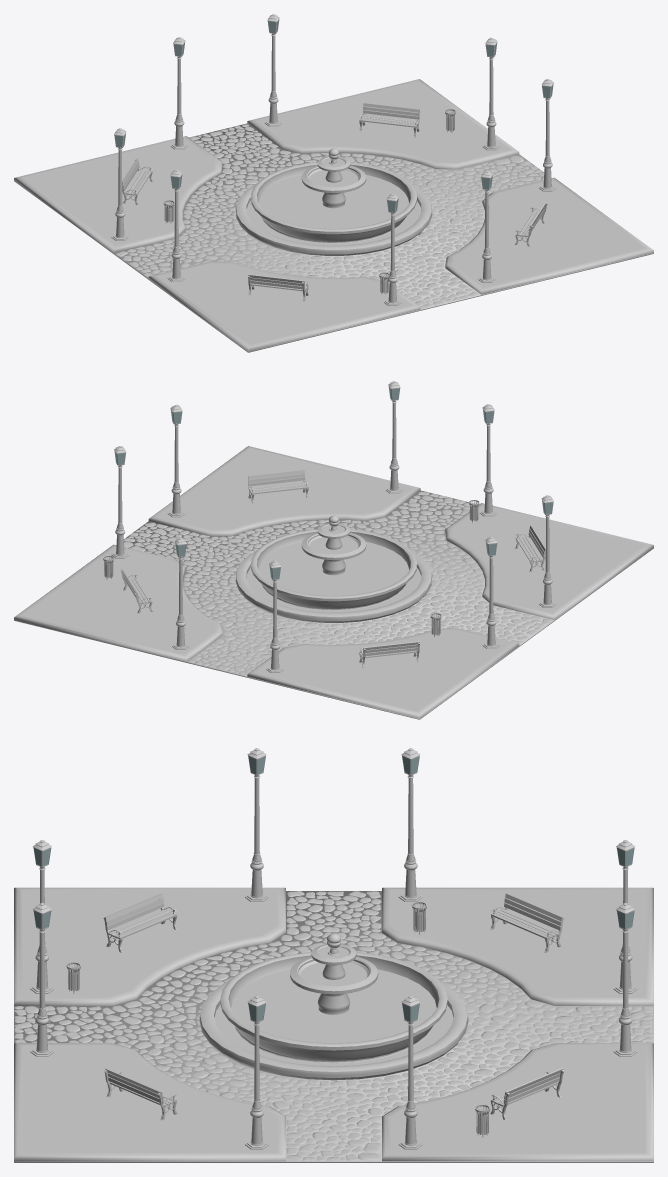
Rendered from assembly_v2.fbx.
The picture shows the model from 3 angles, top to bottom: view 1: azimuth 30°, elevation 25°; view 2: azimuth 150°, elevation 25°; view 3: azimuth 270°, elevation 25°; orthographic projection. The views are drawn at different scales.
Parts seen in each view (by area): view 1: Ground|Ledges_L_ground_modeling_lowPoly.blend|Dupli|, Cobblestone|Cobblestones_L_ground_modeling_lowPoly.blend|Dup, Fountain|Fountain_L_fontaine_shading.blend|Dupli|, Ground|Ground_L_ground_modeling_lowPoly.blend|Dupli|1, Bench.001|bench_L_bench_shading.blend|Dupli|, Bench.002|bench_L_bench_shading.blend|Dupli|, Bench|bench_L_bench_shading.blend|Dupli|, StreetLamp.001|Armature_L_StreetLamp_v2.blend|Dupli|, StreetLamp|Armature_L_StreetLamp_v2.blend|Dupli|, StreetLamp.004|Armature_L_StreetLamp_v2.blend|Dupli|, StreetLamp.005|Armature_L_StreetLamp_v2.blend|Dupli|, StreetLamp.002|Armature_L_StreetLamp_v2.blend|Dupli| (+4 smaller); view 2: Ground|Ledges_L_ground_modeling_lowPoly.blend|Dupli|, Cobblestone|Cobblestones_L_ground_modeling_lowPoly.blend|Dup, Fountain|Fountain_L_fontaine_shading.blend|Dupli|, Ground|Ground_L_ground_modeling_lowPoly.blend|Dupli|1, Bench.003|bench_L_bench_shading.blend|Dupli|, Bench|bench_L_bench_shading.blend|Dupli|, Bench.002|bench_L_bench_shading.blend|Dupli|, StreetLamp.003|Armature_L_StreetLamp_v2.blend|Dupli|, StreetLamp.002|Armature_L_StreetLamp_v2.blend|Dupli|, StreetLamp.007|Armature_L_StreetLamp_v2.blend|Dupli|, StreetLamp.006|Armature_L_StreetLamp_v2.blend|Dupli|, StreetLamp.001|Armature_L_StreetLamp_v2.blend|Dupli| (+4 smaller); view 3: Ground|Ledges_L_ground_modeling_lowPoly.blend|Dupli|, Cobblestone|Cobblestones_L_ground_modeling_lowPoly.blend|Dup, Fountain|Fountain_L_fontaine_shading.blend|Dupli|, Ground|Ground_L_ground_modeling_lowPoly.blend|Dupli|1, Bench.002|bench_L_bench_shading.blend|Dupli|, Bench|bench_L_bench_shading.blend|Dupli|, StreetLamp.003|Armature_L_StreetLamp_v2.blend|Dupli|, StreetLamp.001|Armature_L_StreetLamp_v2.blend|Dupli|, StreetLamp|Armature_L_StreetLamp_v2.blend|Dupli|, StreetLamp.002|Armature_L_StreetLamp_v2.blend|Dupli|, StreetLamp.004|Armature_L_StreetLamp_v2.blend|Dupli|, StreetLamp.007|Armature_L_StreetLamp_v2.blend|Dupli| (+4 smaller).
Part boxes in pixels (<box>): Ground|Ledges_L_ground_modeling_lowPoly.blend|Dupli|: <box>14,79,653,351</box>; Cobblestone|Cobblestones_L_ground_modeling_lowPoly.blend|Dup: <box>116,124,544,308</box>; Fountain|Fountain_L_fontaine_shading.blend|Dupli|: <box>235,148,432,255</box>; Ground|Ground_L_ground_modeling_lowPoly.blend|Dupli|1: <box>14,123,653,352</box>; Bench.001|bench_L_bench_shading.blend|Dupli|: <box>359,103,419,137</box>; Bench.002|bench_L_bench_shading.blend|Dupli|: <box>248,274,308,301</box>; Bench|bench_L_bench_shading.blend|Dupli|: <box>122,158,153,204</box>; StreetLamp.001|Armature_L_StreetLamp_v2.blend|Dupli|: <box>482,37,500,150</box>; StreetLamp|Armature_L_StreetLamp_v2.blend|Dupli|: <box>167,169,185,281</box>; StreetLamp.004|Armature_L_StreetLamp_v2.blend|Dupli|: <box>264,14,282,126</box>; StreetLamp.005|Armature_L_StreetLamp_v2.blend|Dupli|: <box>170,37,188,149</box>; StreetLamp.002|Armature_L_StreetLamp_v2.blend|Dupli|: <box>111,128,128,240</box>; Ground|Ledges_L_ground_modeling_lowPoly.blend|Dupli|: <box>14,446,653,718</box>; Cobblestone|Cobblestones_L_ground_modeling_lowPoly.blend|Dup: <box>123,491,551,675</box>; Fountain|Fountain_L_fontaine_shading.blend|Dupli|: <box>235,515,432,622</box>; Ground|Ground_L_ground_modeling_lowPoly.blend|Dupli|1: <box>14,490,653,719</box>; Bench.003|bench_L_bench_shading.blend|Dupli|: <box>248,470,308,504</box>; Bench|bench_L_bench_shading.blend|Dupli|: <box>359,641,419,668</box>; Bench.002|bench_L_bench_shading.blend|Dupli|: <box>514,525,545,571</box>; StreetLamp.003|Armature_L_StreetLamp_v2.blend|Dupli|: <box>167,404,185,517</box>; StreetLamp.002|Armature_L_StreetLamp_v2.blend|Dupli|: <box>482,536,500,648</box>; StreetLamp.007|Armature_L_StreetLamp_v2.blend|Dupli|: <box>385,381,403,493</box>; StreetLamp.006|Armature_L_StreetLamp_v2.blend|Dupli|: <box>479,404,497,516</box>; StreetLamp.001|Armature_L_StreetLamp_v2.blend|Dupli|: <box>111,446,128,558</box>; Ground|Ledges_L_ground_modeling_lowPoly.blend|Dupli|: <box>14,887,653,1161</box>; Cobblestone|Cobblestones_L_ground_modeling_lowPoly.blend|Dup: <box>14,891,653,1161</box>; Fountain|Fountain_L_fontaine_shading.blend|Dupli|: <box>199,933,468,1080</box>; Ground|Ground_L_ground_modeling_lowPoly.blend|Dupli|1: <box>14,891,653,1162</box>; Bench.002|bench_L_bench_shading.blend|Dupli|: <box>103,893,177,952</box>; Bench|bench_L_bench_shading.blend|Dupli|: <box>490,893,564,952</box>; StreetLamp.003|Armature_L_StreetLamp_v2.blend|Dupli|: <box>245,995,268,1149</box>; StreetLamp.001|Armature_L_StreetLamp_v2.blend|Dupli|: <box>398,995,422,1149</box>; StreetLamp|Armature_L_StreetLamp_v2.blend|Dupli|: <box>245,748,268,901</box>; StreetLamp.002|Armature_L_StreetLamp_v2.blend|Dupli|: <box>398,748,422,901</box>; StreetLamp.004|Armature_L_StreetLamp_v2.blend|Dupli|: <box>613,902,637,1056</box>; StreetLamp.007|Armature_L_StreetLamp_v2.blend|Dupli|: <box>30,902,54,1056</box>.
Bounding box in the file's own units: 2000 × 538 × 2000.
